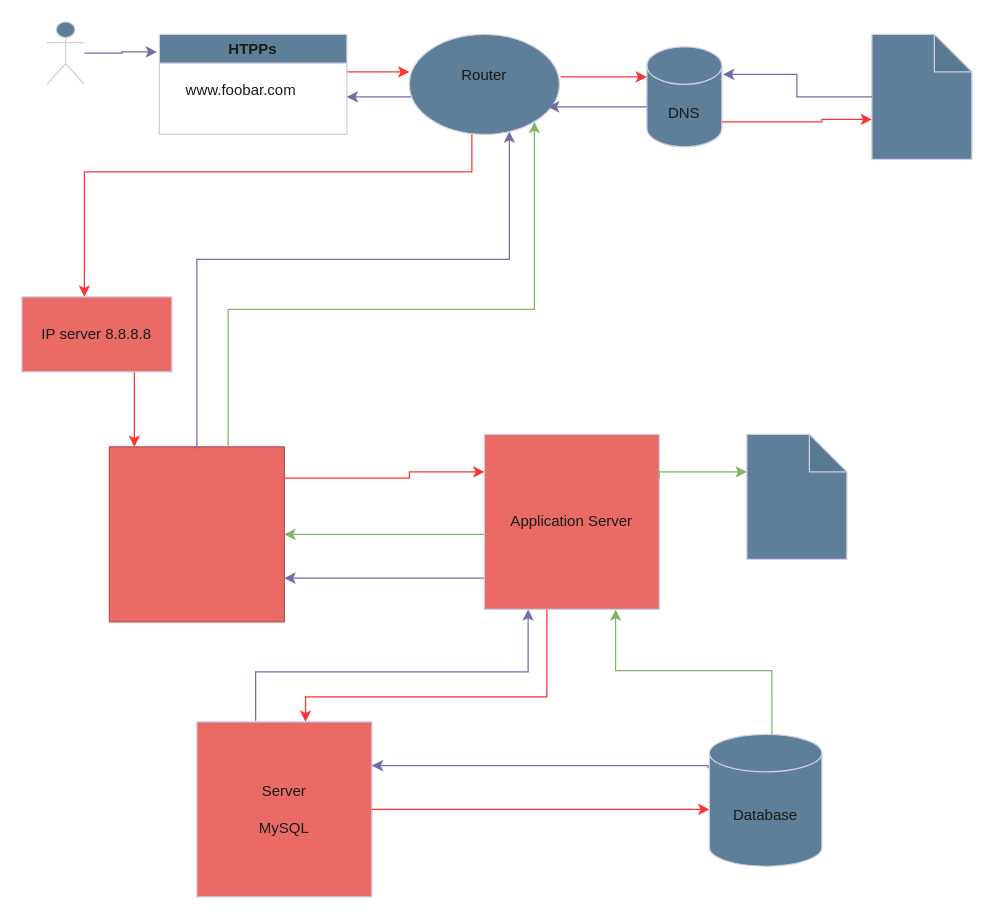
The diagram is 994 pixels wide and 919 high, and some of its shapes have lost their labels. Each missing label, with the centre of its shape:
"Actor" belongs at (65,52).
"NGINX web Server" belongs at (196,534).
"Python file" belongs at (796,496).
"Record IP 8.8.8.8" belongs at (921,96).
